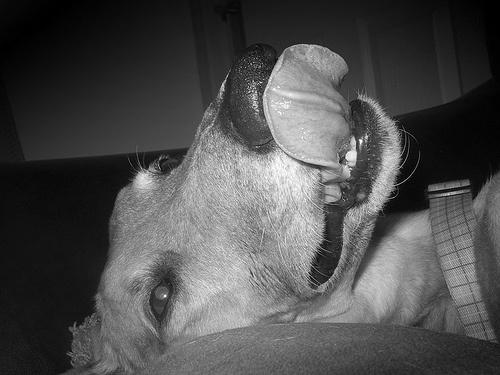dog: (77, 44, 500, 368)
